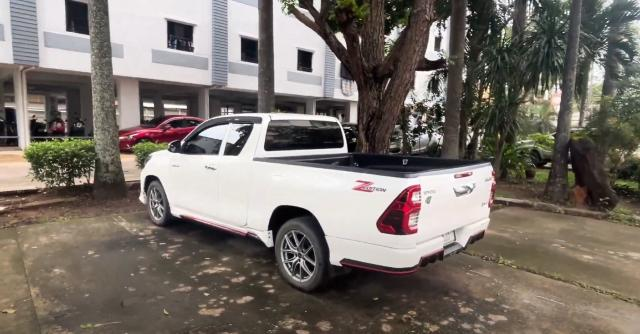pickup-truck: (137, 109, 496, 295)
